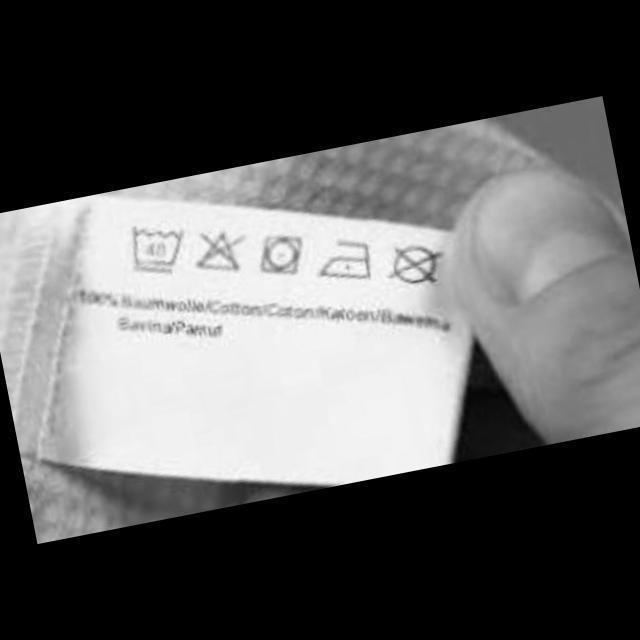40C: (118, 210, 196, 286)
DN_bleach: (185, 220, 258, 284)
DN_dry_clean: (376, 232, 454, 296)
iron_low: (308, 226, 378, 292)
tumble_dry_low: (248, 224, 312, 282)
